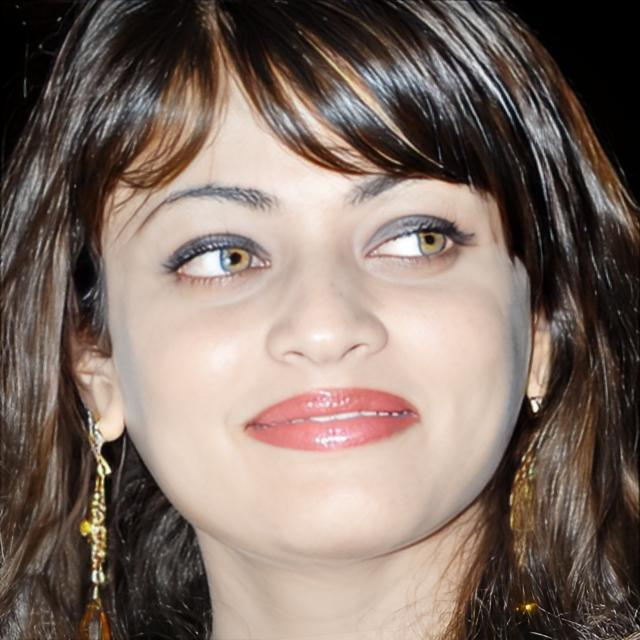content: (105, 44, 536, 564)
